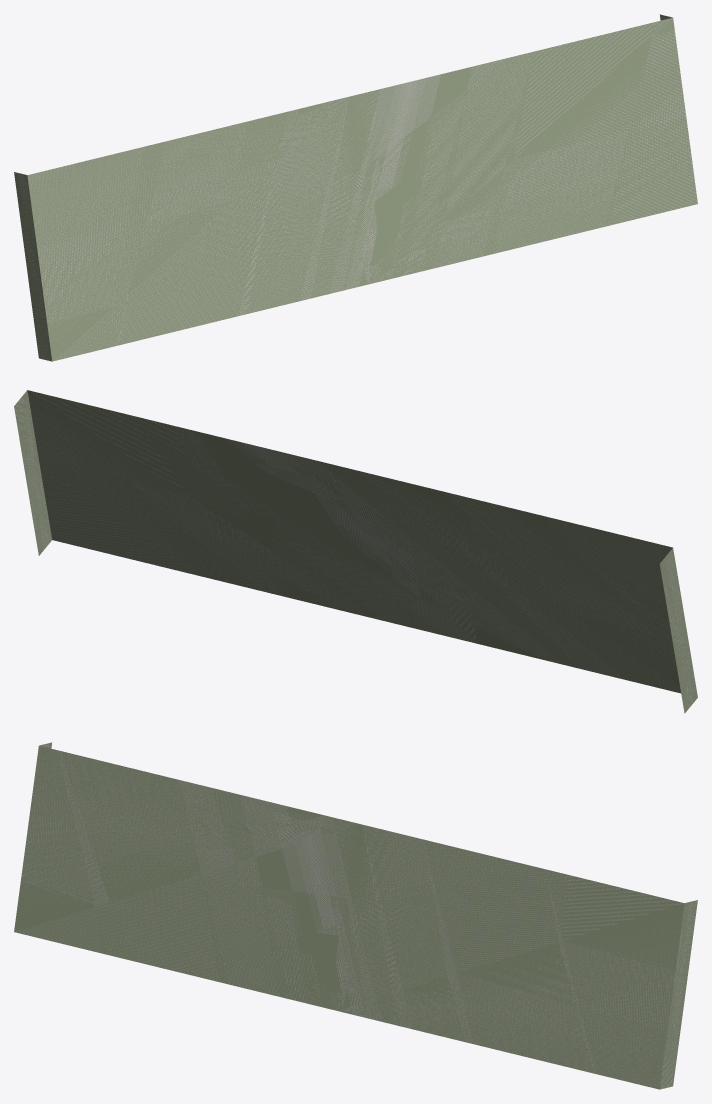
Rendered from original-151.obj.
3 views of the same model, one above another, from view 1: azimuth 30°, elevation 25°; view 2: azimuth 150°, elevation 25°; view 3: azimuth 330°, elevation 25° (orthographic).
Parts seen in each view (by area): view 1: mesh126/mesh126-geometry/material_4#mesh126-geometry; view 2: mesh126/mesh126-geometry/material_4#mesh126-geometry; view 3: mesh126/mesh126-geometry/material_4#mesh126-geometry.
Boxes of the visible parts, left/top/right/bottom form: mesh126/mesh126-geometry/material_4#mesh126-geometry: left=14, top=14, right=697, bottom=361; mesh126/mesh126-geometry/material_4#mesh126-geometry: left=14, top=390, right=697, bottom=713; mesh126/mesh126-geometry/material_4#mesh126-geometry: left=14, top=742, right=697, bottom=1089.
Bounding box in the file's own units: 0.0335 × 0.00868 × 0.00344.
